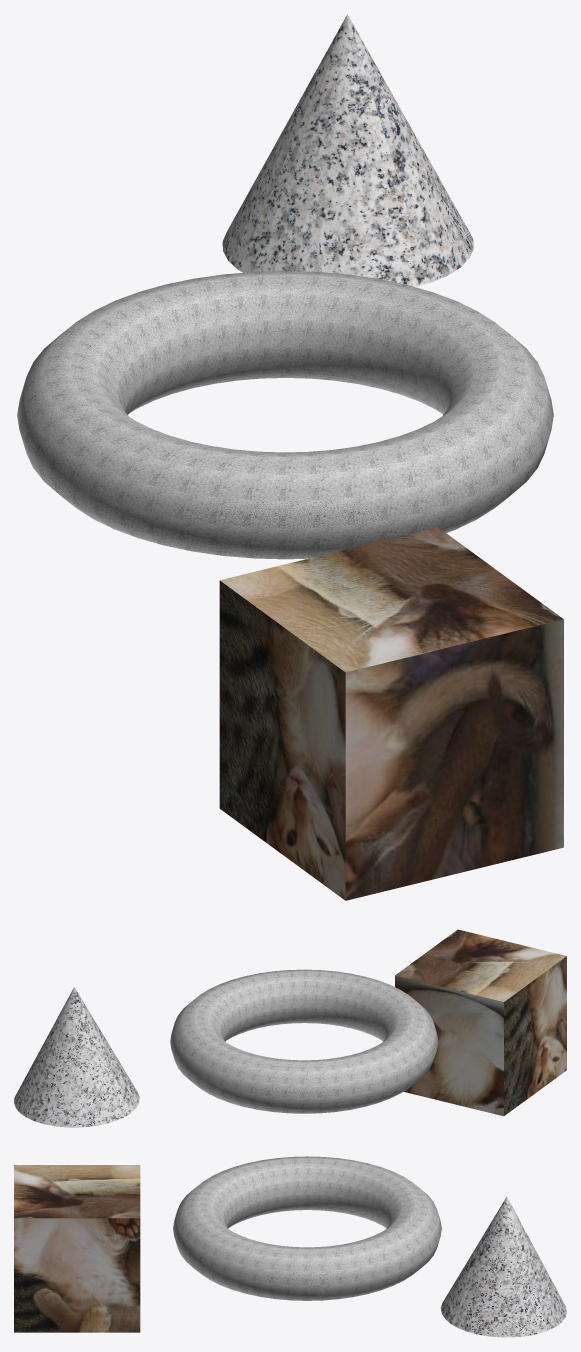
Rendered from threeobjs_twotextures.obj.
The picture shows the model from 3 angles, top to bottom: view 1: azimuth 30°, elevation 25°; view 2: azimuth 150°, elevation 25°; view 3: azimuth 270°, elevation 25°; orthographic projection. The views are drawn at different scales.
Visible parts, largest first — view 1: Cube, Torus; view 2: Cube, Torus; view 3: Cube, Torus.
Part boxes in pixels (box(x1,y1,x2,y2)): Cube: box(219, 14, 563, 900); Torus: box(17, 271, 553, 559); Cube: box(14, 929, 566, 1127); Torus: box(170, 969, 438, 1113); Cube: box(14, 1165, 566, 1337); Torus: box(173, 1156, 441, 1300).
Size of the model in its own units: 5.5 by 3.56 by 8.76.
Materials: 3 (3 with a texture image).
